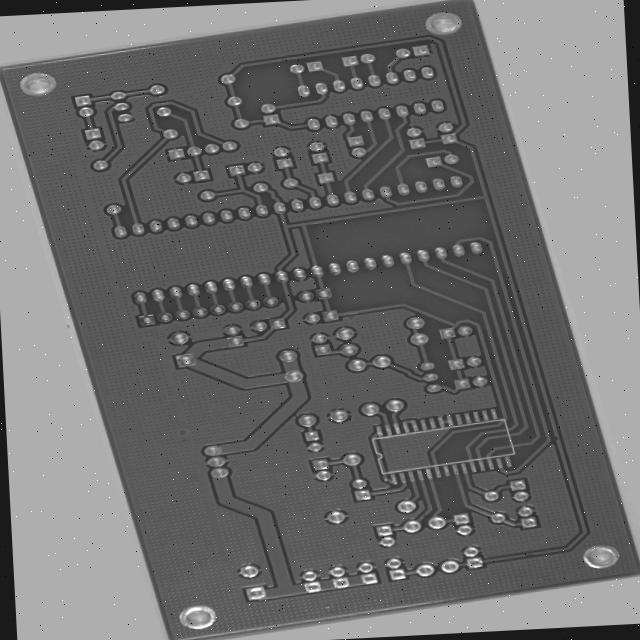mouse_bite: (571, 464, 585, 474), (380, 536, 394, 544)
